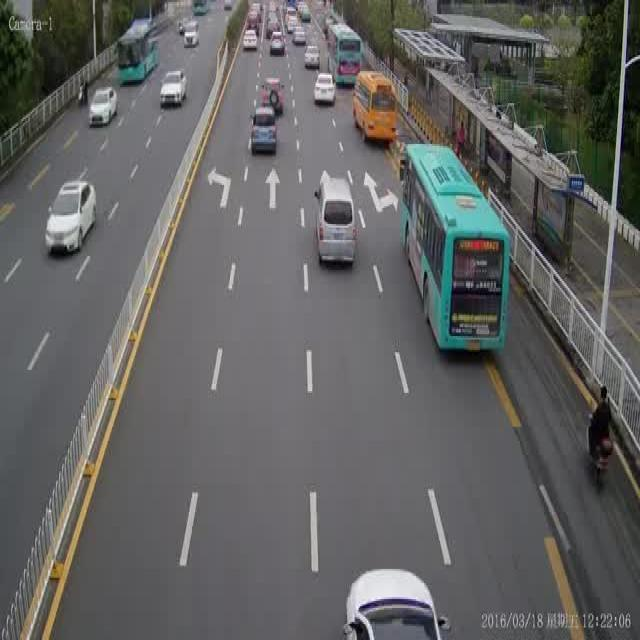Bus: (395, 137, 512, 369), (350, 68, 400, 145), (114, 17, 163, 90), (325, 13, 360, 89)
Car: (339, 550, 440, 640), (310, 164, 364, 286), (40, 172, 97, 260), (253, 71, 291, 126), (245, 108, 280, 159), (88, 82, 120, 131), (156, 68, 190, 112), (309, 70, 339, 111), (303, 38, 321, 76), (182, 18, 202, 51), (239, 25, 260, 56), (269, 30, 286, 58), (292, 26, 307, 46)
Motorcycle: (583, 372, 619, 500), (74, 63, 92, 116)
